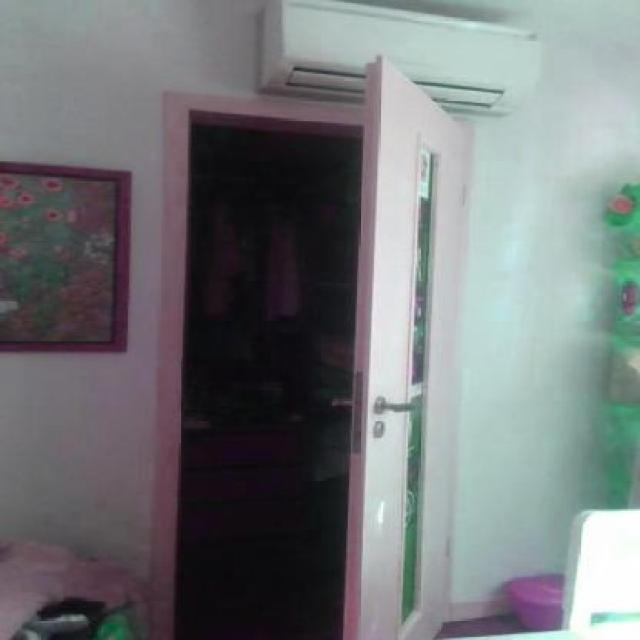door_handle: (376, 393, 429, 421)
